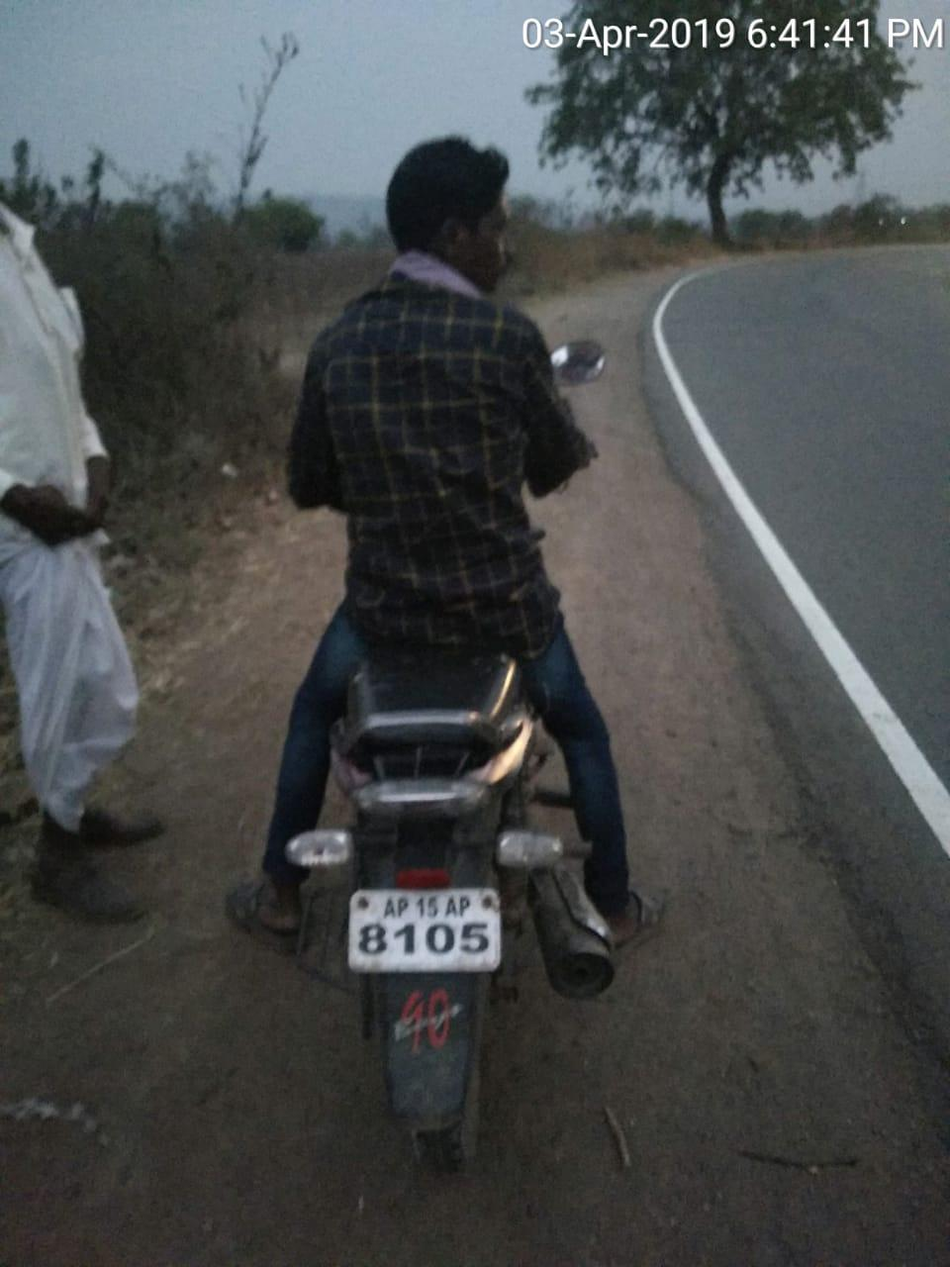plate: (345, 876, 516, 984)
